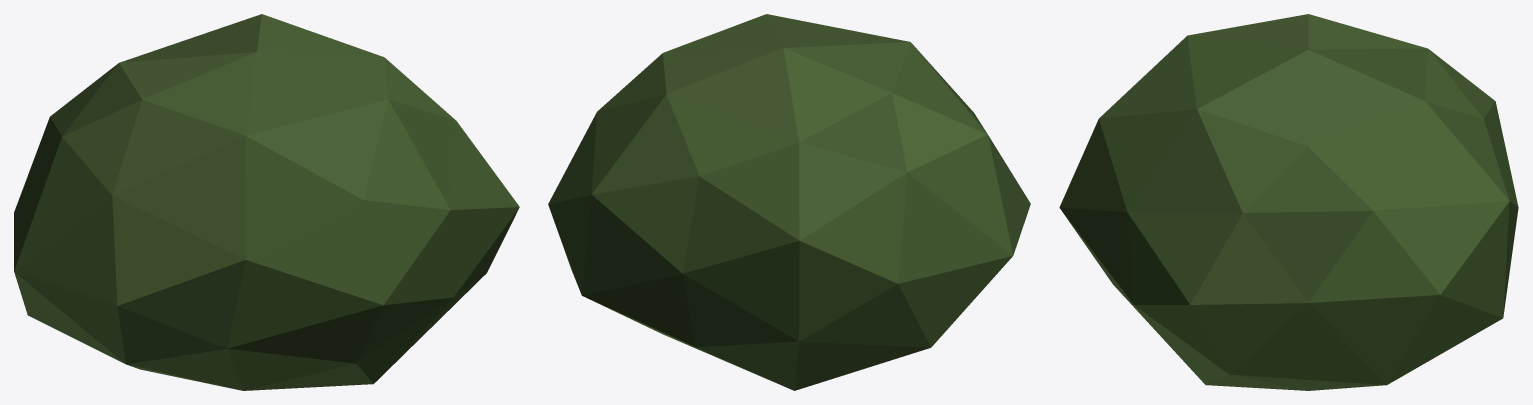
The model's file is bush.glb.
3 renders of one model, left to right at view 1: azimuth 30°, elevation 25°; view 2: azimuth 150°, elevation 25°; view 3: azimuth 270°, elevation 25°, orthographic. The views are drawn at different scales.
Visible parts, largest first — view 1: lit; view 2: lit; view 3: lit.
Part boxes in pixels (bbox=[...]): lit: bbox=[14, 14, 519, 390]; lit: bbox=[548, 14, 1030, 390]; lit: bbox=[1059, 14, 1518, 390].
Bounding box in the file's own units: 1.47 × 0.9766 × 1.33.
